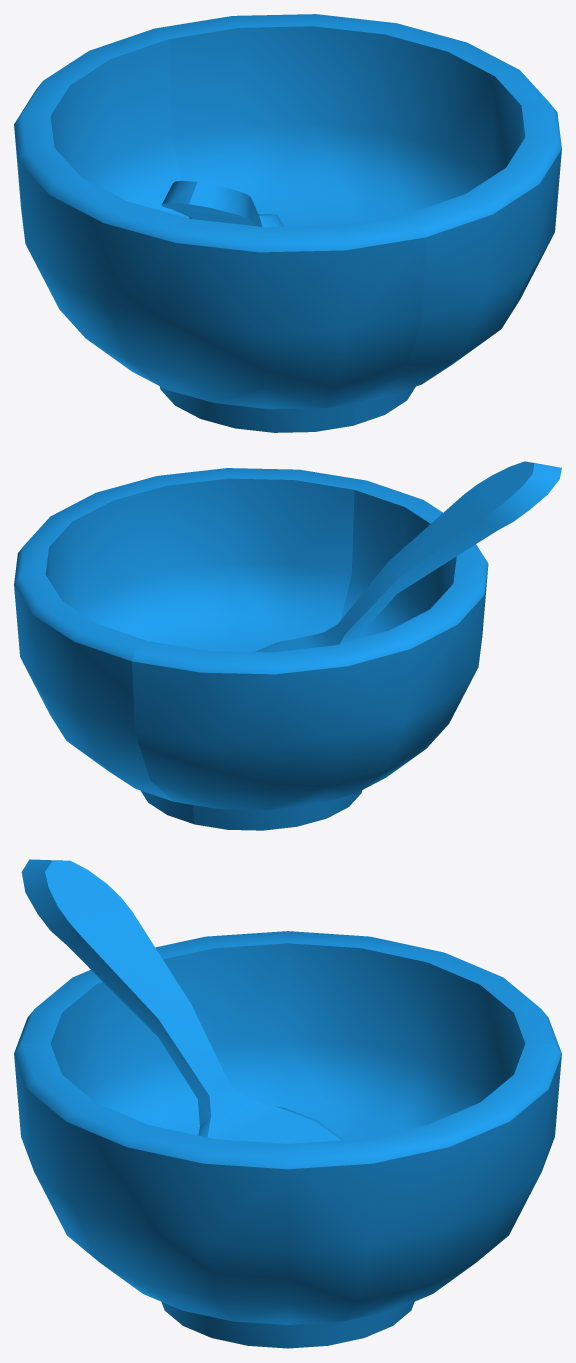
The model's file is obj_rewards_bowl.fbx.
3 views of the same model, one above another, from view 1: azimuth 30°, elevation 25°; view 2: azimuth 150°, elevation 25°; view 3: azimuth 270°, elevation 25° (orthographic). The views are drawn at different scales.
Parts seen in each view (by area): view 1: part1_lp.002; view 2: part1_lp.002; view 3: part1_lp.002.
Part boxes in pixels (left/top/right/bottom): part1_lp.002: left=14, top=14, right=561, bottom=432; part1_lp.002: left=14, top=461, right=561, bottom=830; part1_lp.002: left=14, top=859, right=561, bottom=1348.
Bounding box in the file's own units: 1.59 × 1.06 × 1.59.
